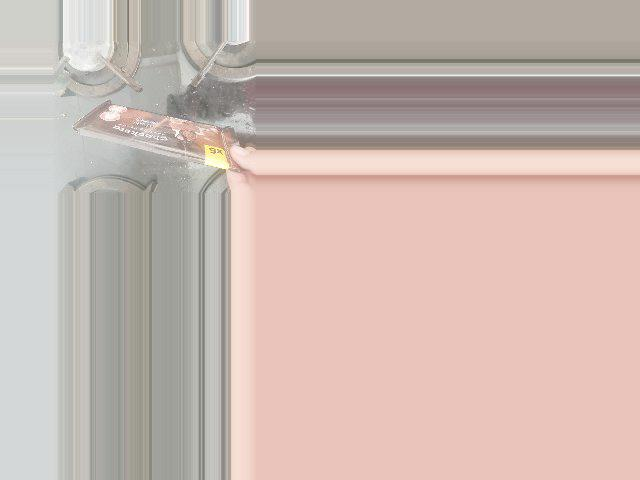chocolate: (74, 100, 238, 171)
